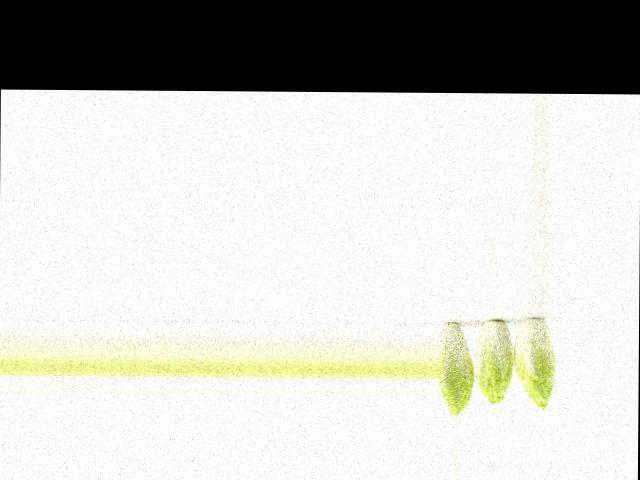lettuce: (515, 314, 556, 411)
